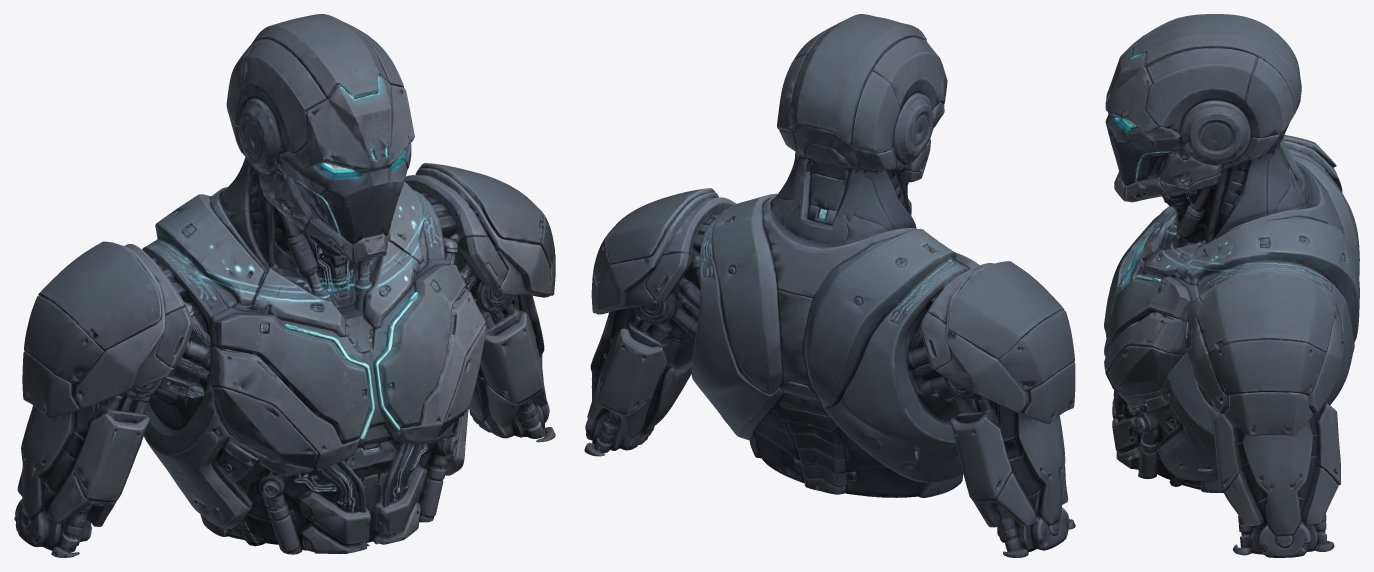
File: dominus.glb
3 views of the same model, side by side, from view 1: azimuth 30°, elevation 25°; view 2: azimuth 150°, elevation 25°; view 3: azimuth 270°, elevation 25° (orthographic). The views are drawn at different scales.
Visible parts, largest first — view 1: tripo_node_622f1194-3019-4521-8392-04f3562af7b3; view 2: tripo_node_622f1194-3019-4521-8392-04f3562af7b3; view 3: tripo_node_622f1194-3019-4521-8392-04f3562af7b3.
Part boxes in pixels (bbox=[...]): tripo_node_622f1194-3019-4521-8392-04f3562af7b3: bbox=[14, 14, 555, 557]; tripo_node_622f1194-3019-4521-8392-04f3562af7b3: bbox=[584, 14, 1075, 557]; tripo_node_622f1194-3019-4521-8392-04f3562af7b3: bbox=[1104, 14, 1359, 557].
Bounding box in the file's own units: 0.9804 × 0.8738 × 0.4771.
Materials: 1 (1 with a texture image).
